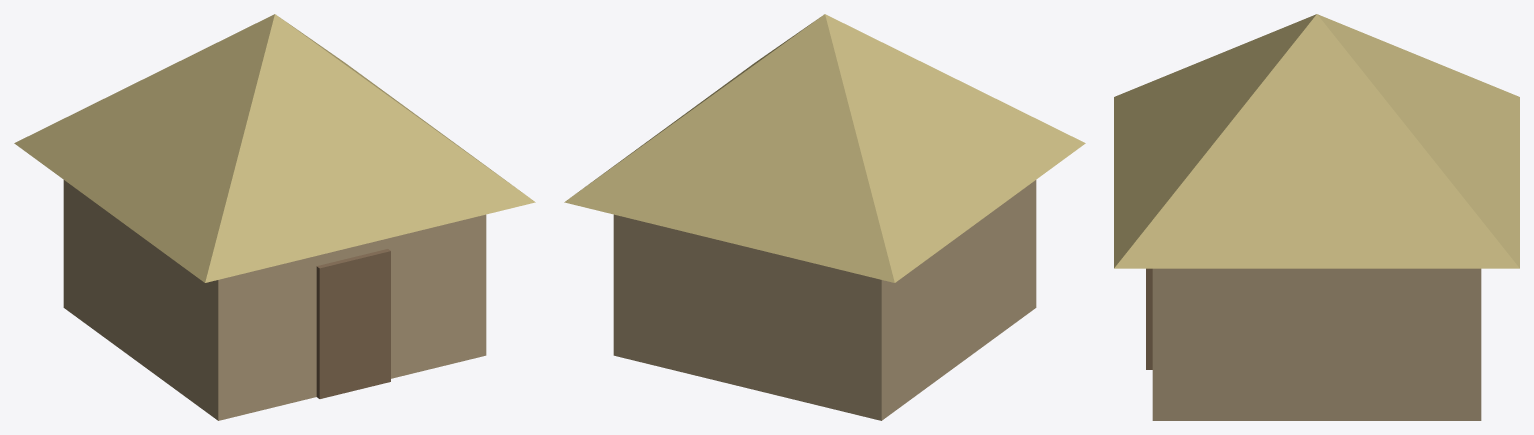
The model's file is hut.gltf.
The picture shows the model from 3 angles, left to right: view 1: azimuth 30°, elevation 25°; view 2: azimuth 150°, elevation 25°; view 3: azimuth 270°, elevation 25°; orthographic projection. The views are drawn at different scales.
Parts seen in each view (by area): view 1: hut; view 2: hut; view 3: hut.
Part boxes in pixels (box(x1,y1,x2,y2)): hut: box(14, 14, 535, 420); hut: box(564, 14, 1085, 420); hut: box(1114, 14, 1519, 420).
Bounding box in the file's own units: 3.7 × 3.4 × 3.7.
